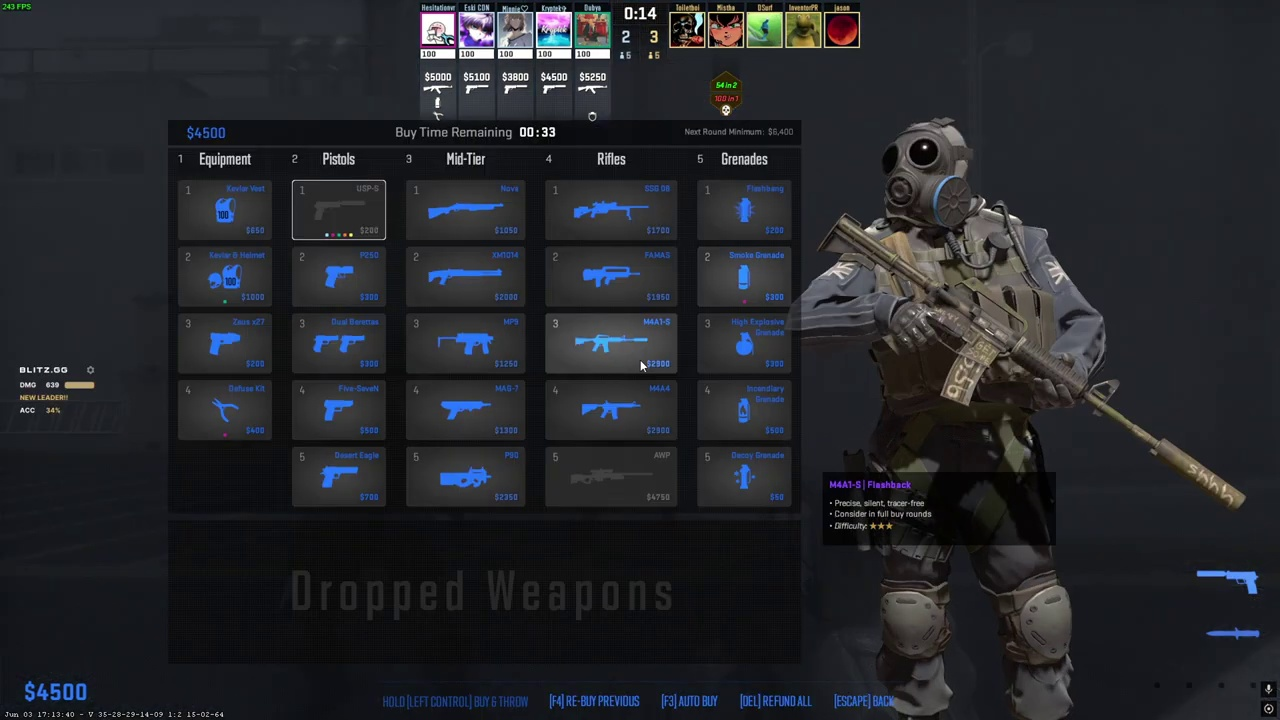CT: (852, 121, 1092, 720)
